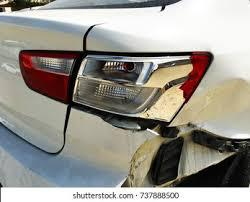Taillight-Damage: (18, 45, 216, 120)
rear-bumper-dent: (0, 97, 249, 188)
